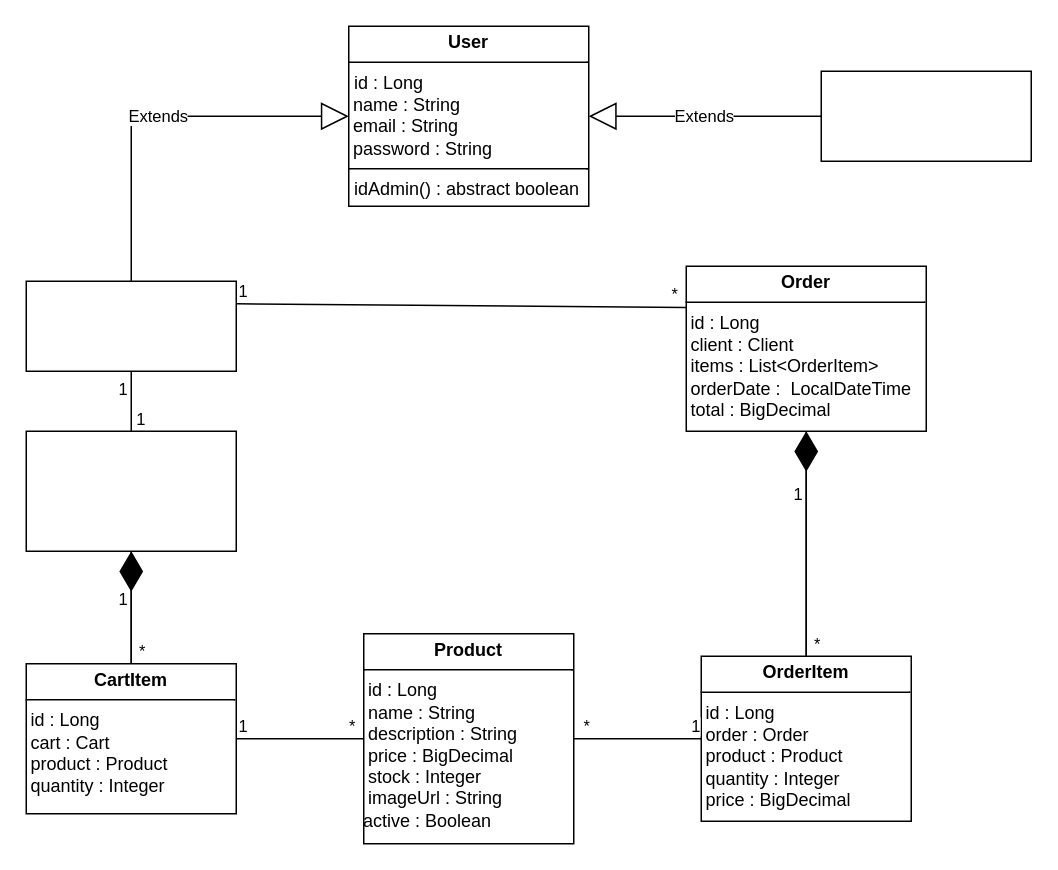
Image size: 1058x870. Some labels were removed from this diagram. The shapes that lost their labels are listed below. From the top down, each one's centre as x and y in pixels, then its label:
At point 925,115: "Admin".
At point 130,325: "Client".
At point 130,490: "Cart id : Long client : Client items : List<CartItem>".
